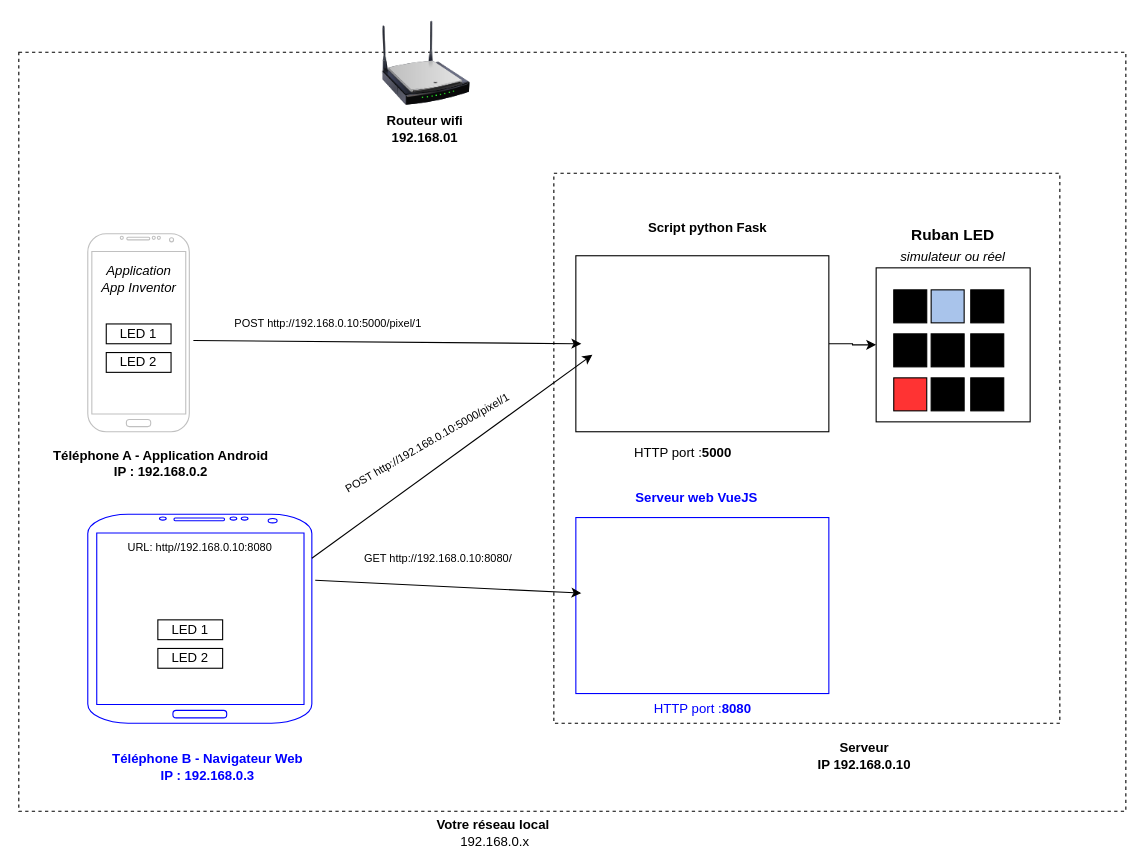
Image size: 1146x868. Some labels were removed from this diagram. Each missing label, with the centre of its shape:
"from flask import Flask from flask_restful import Api, Resource, reqparse" belongs at point 702,343.
"HTML, JS, CSS Front Web en VueJS permettant de piloter les LED" belongs at point 702,605.
